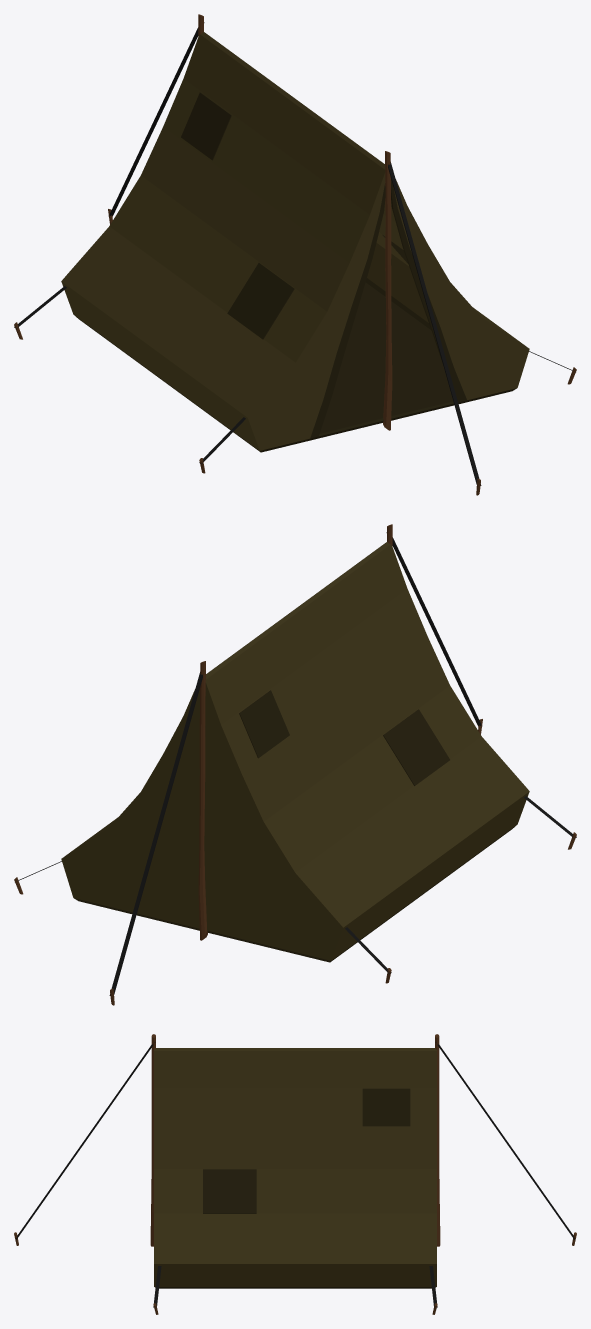
The model's file is Survival_Tent.glb.
The picture shows the model from 3 angles, top to bottom: view 1: azimuth 30°, elevation 25°; view 2: azimuth 150°, elevation 25°; view 3: azimuth 270°, elevation 25°; orthographic projection. The views are drawn at different scales.
Parts seen in each view (by area): view 1: Tent; view 2: Tent; view 3: Tent.
Boxes of the visible parts, <box> form: Tent: <box>14,14,576,495</box>; Tent: <box>14,524,576,1005</box>; Tent: <box>14,1034,576,1314</box>.
Size of the model in its own units: 1458 by 1032 by 2487.
